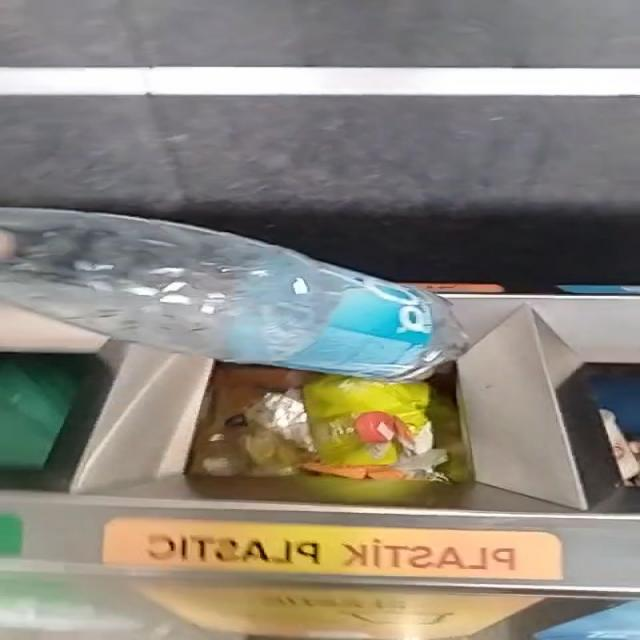plastic: (0, 208, 468, 381)
